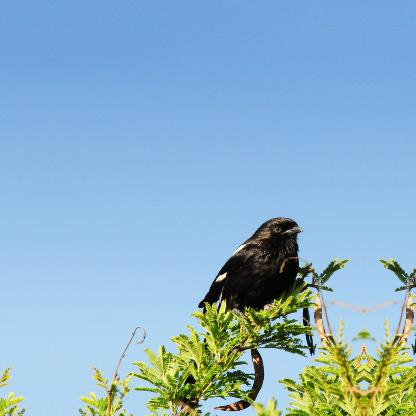Bird: (196, 216, 304, 330)
